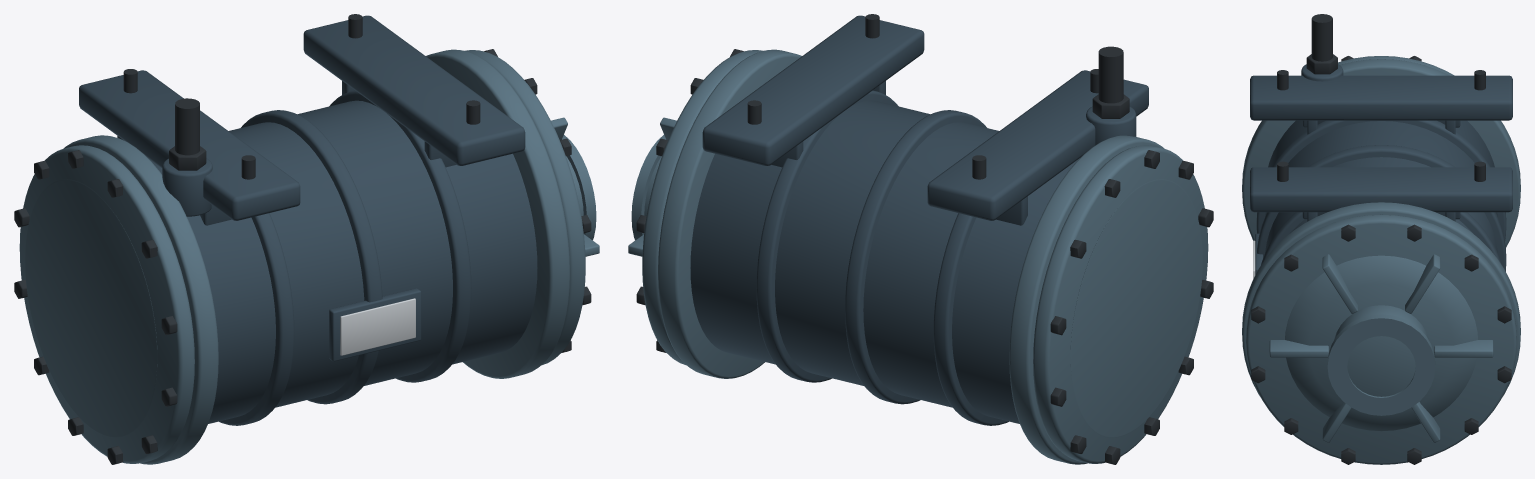
Rendered from brake_cylinder_188b.glb.
The picture shows the model from 3 angles, left to right: view 1: azimuth 30°, elevation 25°; view 2: azimuth 150°, elevation 25°; view 3: azimuth 270°, elevation 25°; orthographic projection. The views are drawn at different scales.
Visible parts, largest first — view 1: ТЦ_188Б; view 2: ТЦ_188Б; view 3: ТЦ_188Б.
Part boxes in pixels (box(x1,y1,x2,y2)): ТЦ_188Б: box(14, 14, 599, 464); ТЦ_188Б: box(628, 14, 1213, 464); ТЦ_188Б: box(1242, 14, 1520, 464).
Size of the model in its own units: 0.695 by 0.515 by 0.424.
